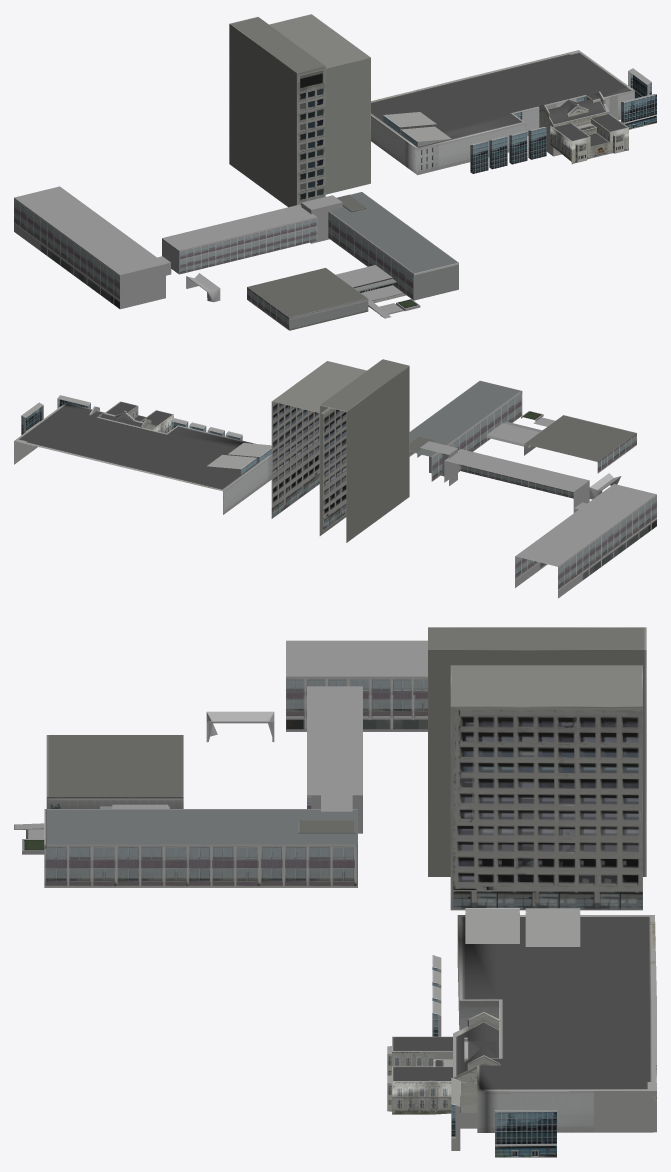
Rendered from Buchanan.obj.
3 views of the same model, one above another, from view 1: azimuth 30°, elevation 25°; view 2: azimuth 150°, elevation 25°; view 3: azimuth 270°, elevation 25° (orthographic). The views are drawn at different scales.
Parts seen in each view (by area): view 1: Buchanan_8_Mesh.008; view 2: Buchanan_8_Mesh.008; view 3: Buchanan_8_Mesh.008.
Part boxes in pixels (x1,y1,x2,y2): Buchanan_8_Mesh.008: (14,14,656,330); Buchanan_8_Mesh.008: (14,359,656,598); Buchanan_8_Mesh.008: (14,627,656,1157).
Size of the model in its own units: 0.2212 by 0.0544 by 0.1278.
Materials: 6 (4 with a texture image).
